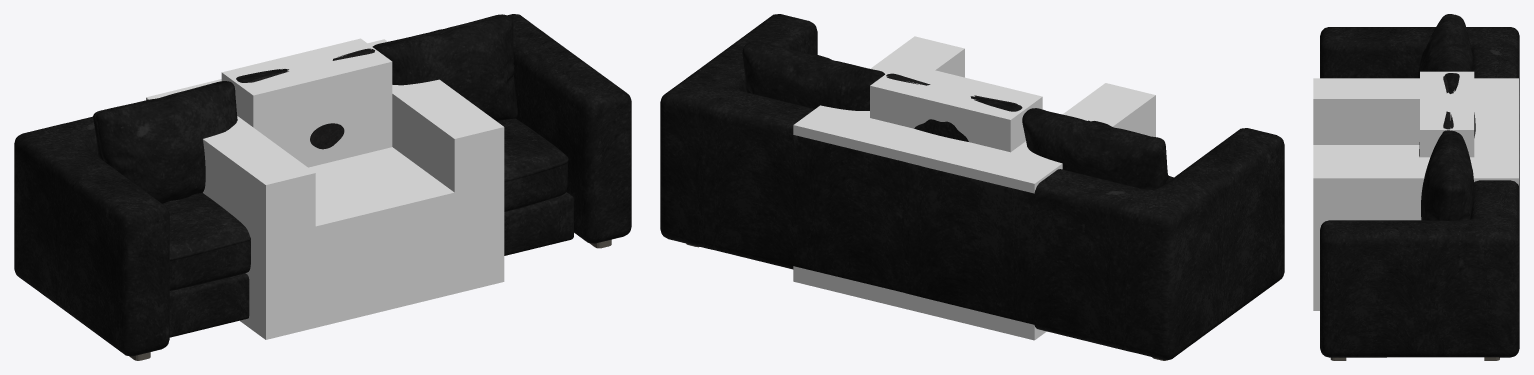
The model's file is leather-collection.glb.
3 renders of one model, left to right at view 1: azimuth 30°, elevation 25°; view 2: azimuth 150°, elevation 25°; view 3: azimuth 270°, elevation 25°, orthographic. The views are drawn at different scales.
Visible parts, largest first — view 1: armchair_ui_bounds, Cube_couch_0, Cube.004_CouchPuff_0, Cube.002_couch_0, Cube.010_CouchPuff_0, Cube.001_couch_0, Cube.011_Puff_0; view 2: Cube_couch_0, armchair_ui_bounds, Cube.004_CouchPuff_0, Cube.010_CouchPuff_0, Cube.009_CouchPuff_0; view 3: Cube_couch_0, armchair_ui_bounds, Cube.010_CouchPuff_0, Cube.004_CouchPuff_0, Cube.009_CouchPuff_0, Cube.011_Puff_0.
Boxes of the visible parts, x1,y1,x2,y2 form: armchair_ui_bounds: (146, 38, 504, 339); Cube_couch_0: (14, 14, 631, 356); Cube.004_CouchPuff_0: (93, 81, 237, 203); Cube.002_couch_0: (162, 118, 568, 290); Cube.010_CouchPuff_0: (372, 14, 517, 120); Cube.001_couch_0: (169, 192, 573, 337); Cube.011_Puff_0: (250, 48, 374, 149); Cube_couch_0: (660, 14, 1284, 360); armchair_ui_bounds: (793, 36, 1155, 340); Cube.004_CouchPuff_0: (1022, 108, 1169, 189); Cube.010_CouchPuff_0: (742, 41, 884, 110); Cube.009_CouchPuff_0: (914, 96, 1022, 141); Cube_couch_0: (1320, 27, 1519, 357); armchair_ui_bounds: (1313, 71, 1518, 310); Cube.010_CouchPuff_0: (1421, 131, 1474, 220); Cube.004_CouchPuff_0: (1417, 14, 1472, 78); Cube.009_CouchPuff_0: (1444, 73, 1475, 137); Cube.011_Puff_0: (1419, 76, 1456, 156).
Size of the model in its own units: 2.2 by 0.7805 by 0.9001.
4 materials, 4 textured.
